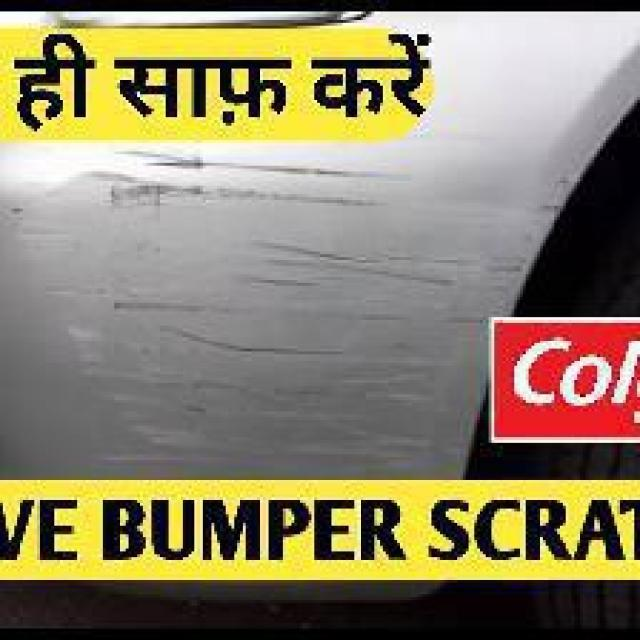damaged: (34, 148, 492, 474)
